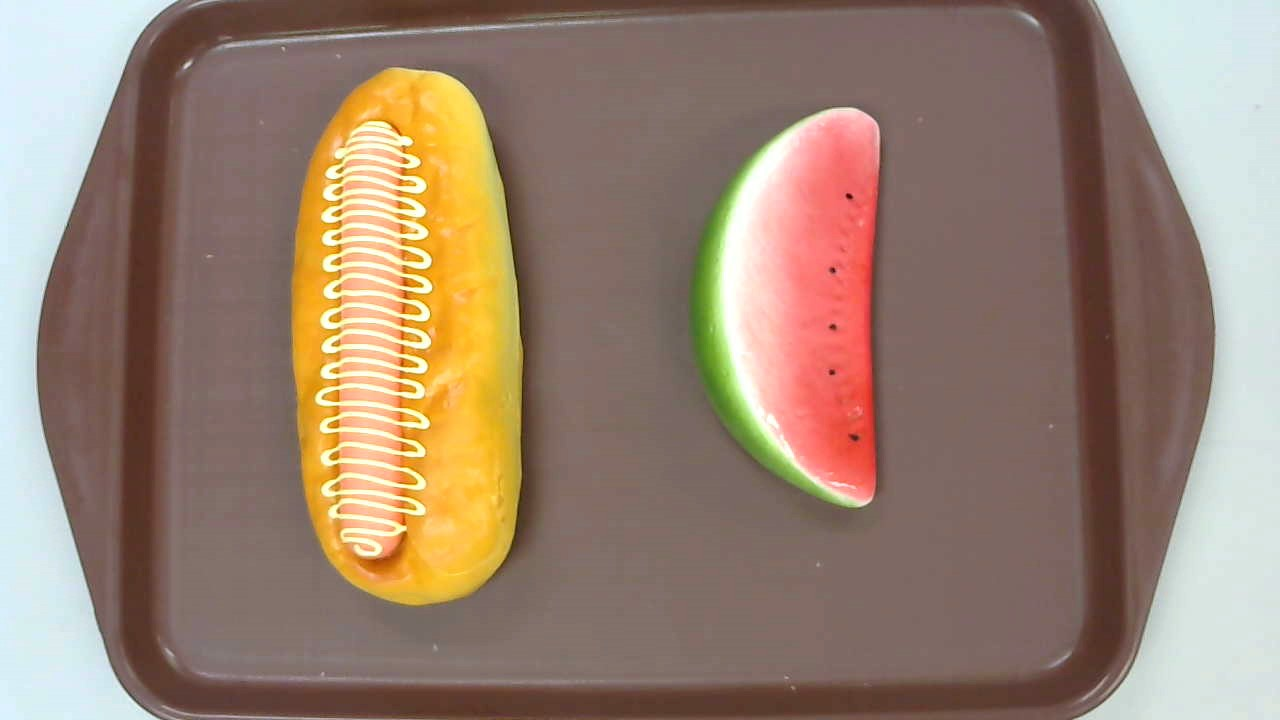hot dog: (289, 66, 526, 607)
water melon: (689, 107, 881, 507)
